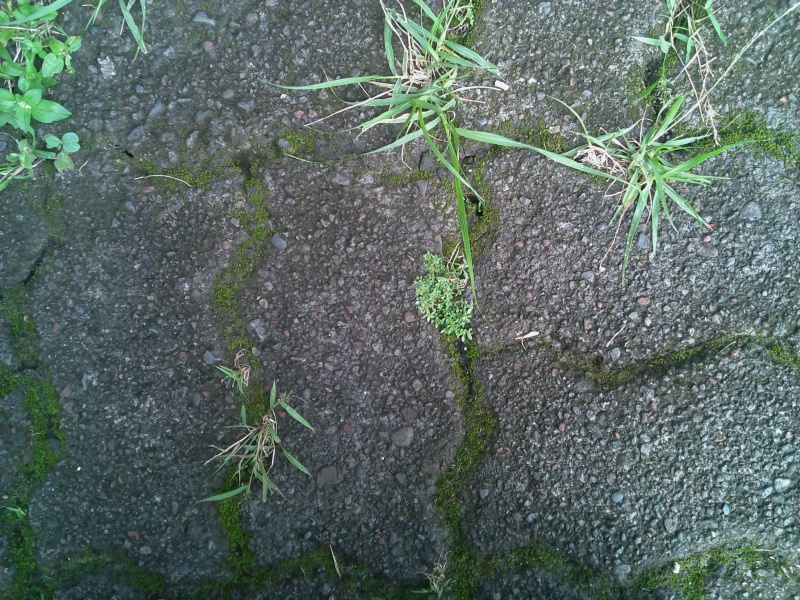Weed: (357, 5, 489, 174), (622, 113, 705, 237), (216, 392, 305, 496), (401, 248, 482, 346), (643, 3, 729, 74), (200, 342, 258, 401), (1, 85, 76, 130), (565, 120, 617, 175), (34, 30, 90, 78), (37, 127, 86, 178), (1, 140, 45, 187), (409, 557, 455, 600), (5, 495, 32, 523)
